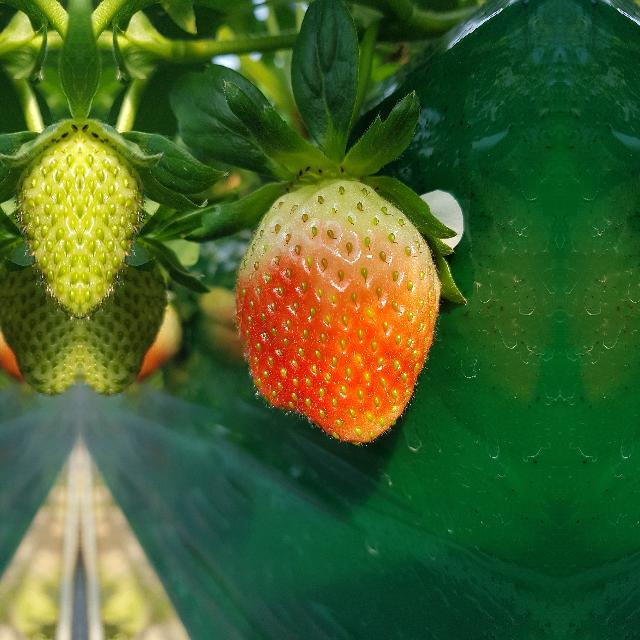Health_25: (80, 255, 172, 400), (80, 123, 144, 315), (16, 123, 80, 315), (0, 255, 80, 400)
Health_75: (233, 178, 442, 446)
